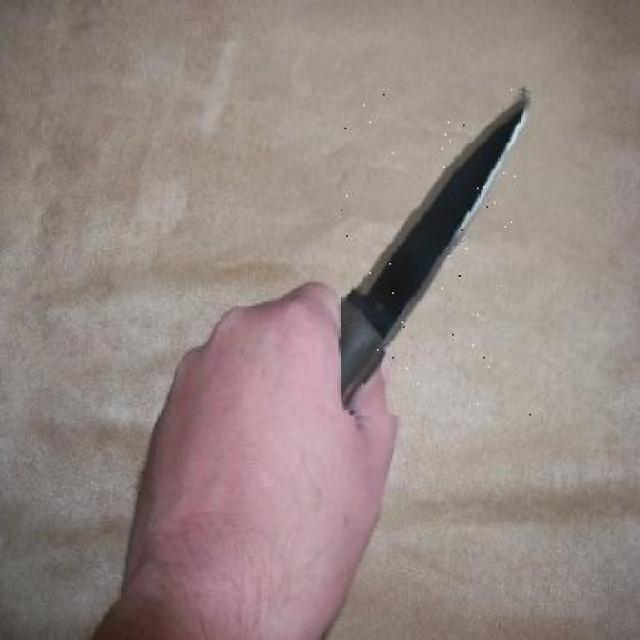knife: (340, 87, 531, 416)
